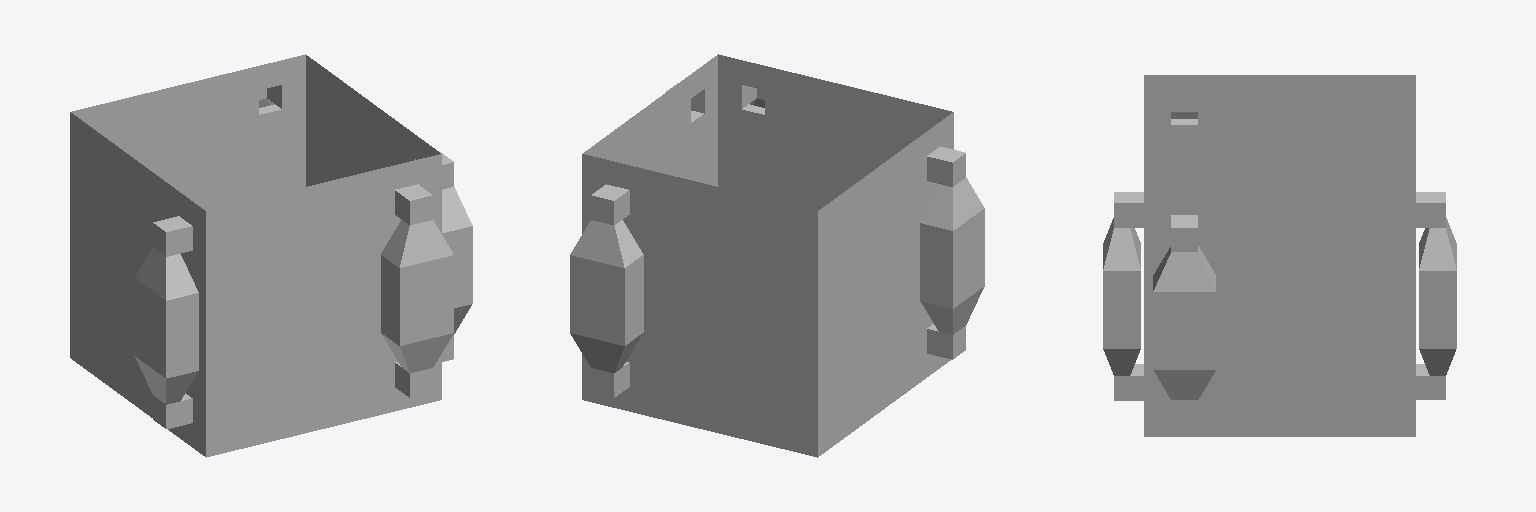
File: cubeBoiler.obj
The picture shows the model from 3 angles: view 1: azimuth 30°, elevation 25°; view 2: azimuth 150°, elevation 25°; view 3: azimuth 270°, elevation 25°; orthographic projection.
Parts seen in each view (by area): view 1: polySurface12; view 2: polySurface12; view 3: polySurface12.
Boxes of the visible parts, box(x1,y1,x2,y2) form: polySurface12: box(70, 54, 472, 457); polySurface12: box(570, 54, 984, 457); polySurface12: box(1103, 75, 1456, 436).
Size of the model in its own units: 104 by 80 by 104.